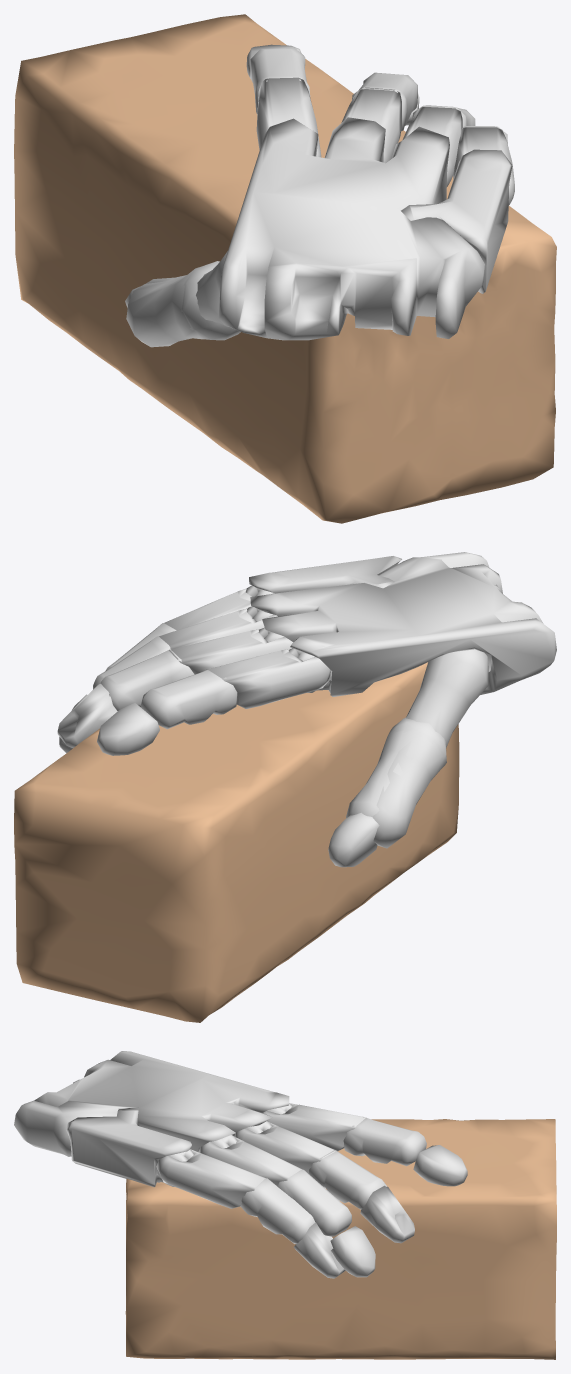
The model's file is shadow_wood.glb.
3 renders of one model, top to bottom at view 1: azimuth 30°, elevation 25°; view 2: azimuth 150°, elevation 25°; view 3: azimuth 270°, elevation 25°, orthographic. The views are drawn at different scales.
Visible parts, largest first — view 1: obj, body_1, body_17, body_26, body_3, body_8, body_4, body_13, body_19, body_9, body_24, body_25; view 2: obj, body_1, body_24, body_26, body_3, body_4, body_17, body_8, body_9, body_25, body_5, body_27 (+4 smaller); view 3: obj, body_1, body_17, body_19, body_4, body_20, body_3, body_9, body_14, body_8, body_13, body_10 (+3 smaller).
Boxes of the visible parts, <box> form: obj: <box>14,14,556,523</box>; body_1: <box>218,117,484,340</box>; body_17: <box>401,149,512,293</box>; body_26: <box>126,261,237,347</box>; body_3: <box>256,77,321,157</box>; body_8: <box>341,87,401,163</box>; body_4: <box>250,48,310,113</box>; body_13: <box>402,107,462,186</box>; body_19: <box>453,127,514,205</box>; body_9: <box>352,72,417,131</box>; body_24: <box>196,251,228,326</box>; body_25: <box>145,261,240,340</box>; obj: <box>14,662,459,1022</box>; body_1: <box>250,552,556,696</box>; body_24: <box>406,649,488,748</box>; body_26: <box>372,718,446,848</box>; body_3: <box>206,649,330,709</box>; body_4: <box>141,668,237,729</box>; body_17: <box>249,556,401,593</box>; body_8: <box>169,629,293,674</box>; body_9: <box>100,649,194,710</box>; body_25: <box>346,717,445,817</box>; body_5: <box>97,703,159,755</box>; body_27: <box>328,812,379,867</box>; obj: <box>125,1119,556,1359</box>; body_1: <box>14,1051,289,1156</box>; body_17: <box>66,1110,191,1187</box>; body_19: <box>156,1149,265,1208</box>; body_4: <box>343,1117,426,1166</box>; body_20: <box>240,1178,315,1243</box>; body_3: <box>262,1103,366,1151</box>; body_9: <box>309,1150,387,1209</box>; body_14: <box>277,1169,351,1236</box>; body_8: <box>234,1122,336,1173</box>; body_13: <box>198,1137,302,1185</box>; body_10: <box>360,1185,414,1243</box>.
Bounding box in the file's own units: 0.00164 × 0.00112 × 0.00259.
